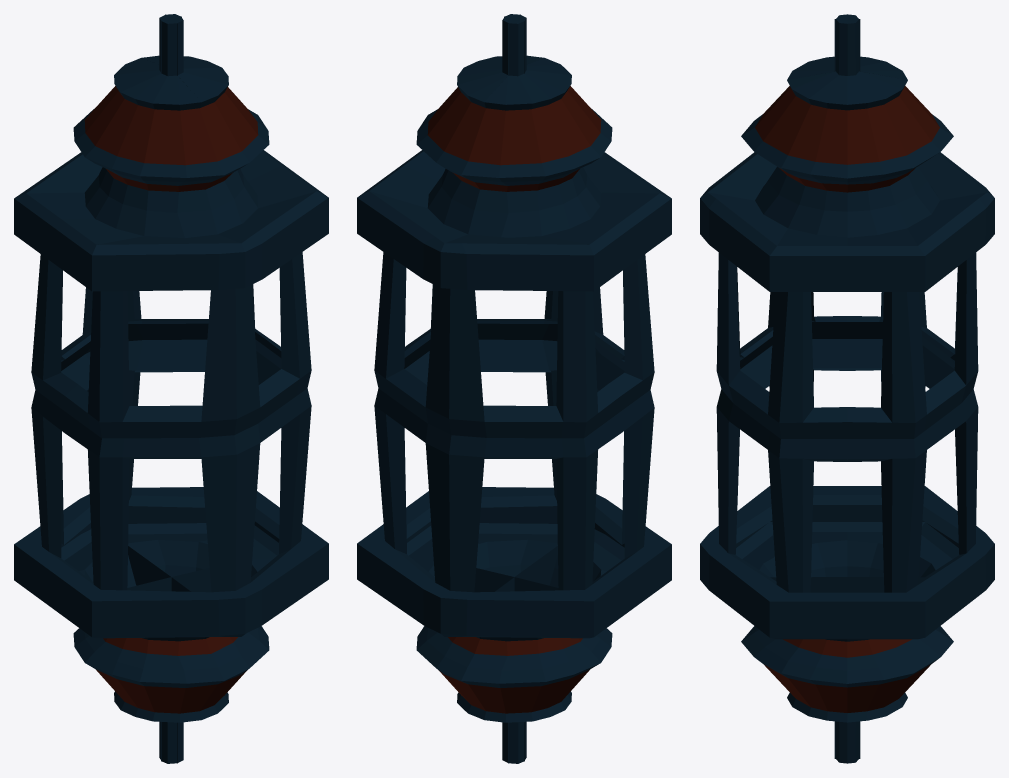
Rendered from WireLamp.fbx.
3 renders of one model, left to right at view 1: azimuth 30°, elevation 25°; view 2: azimuth 150°, elevation 25°; view 3: azimuth 270°, elevation 25°, orthographic.
Parts seen in each view (by area): view 1: WiredLamp; view 2: WiredLamp; view 3: WiredLamp.
Boxes of the visible parts, box(x1,y1,x2,y2) form: WiredLamp: box(14, 14, 328, 763); WiredLamp: box(357, 14, 671, 763); WiredLamp: box(700, 14, 994, 763).
Size of the model in its own units: 210 by 627 by 226.
